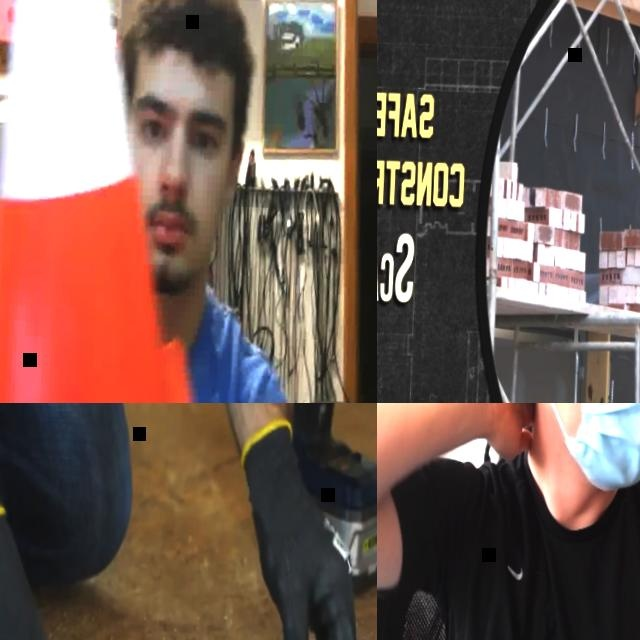Mask: (533, 403, 640, 497)
NO-Hardhat: (121, 0, 251, 86)
NO-Mask: (137, 192, 208, 288)
NO-Safety Vest: (446, 448, 640, 640), (164, 316, 269, 403)
Person: (94, 0, 320, 403), (0, 403, 374, 640), (377, 403, 640, 640)
Safety Cone: (0, 0, 243, 403)
